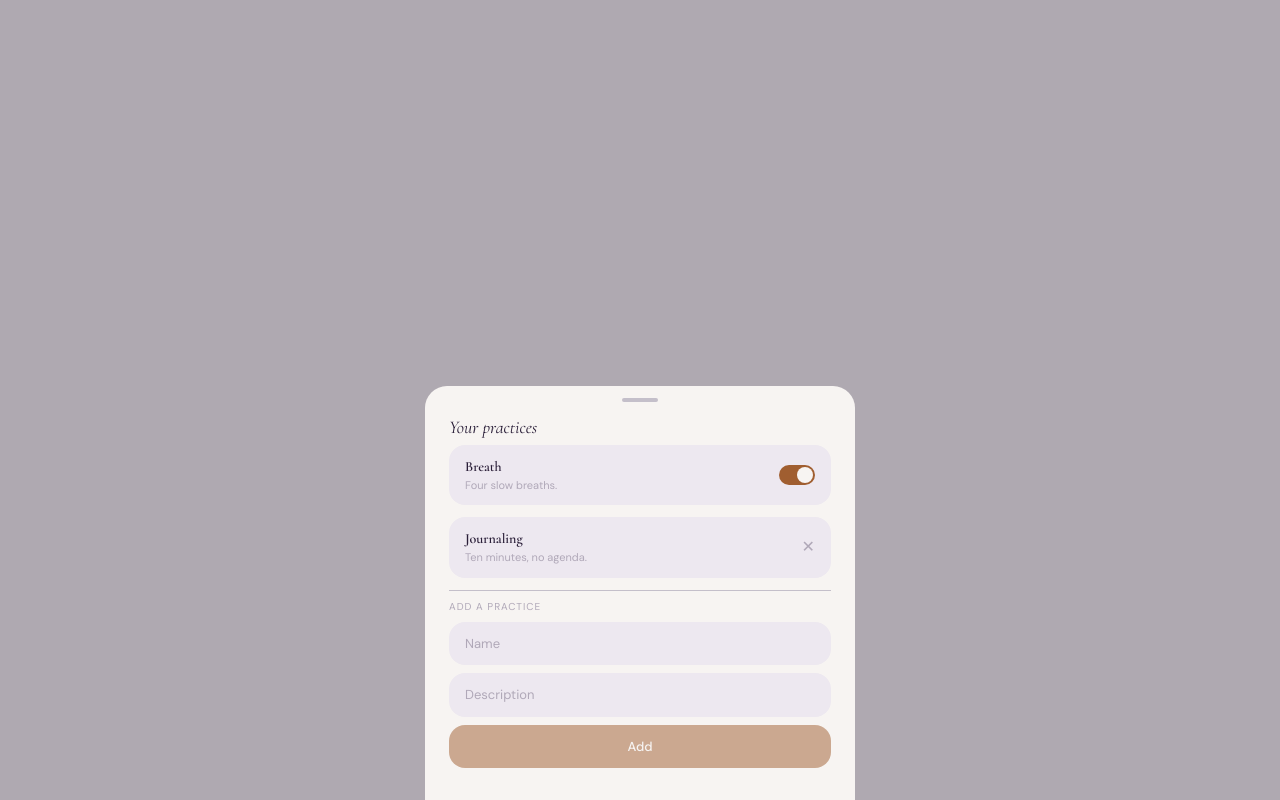
Scenario: PracticeEditor › tapping ✕ shows Remove? confirmation
Click the button named "Remove practice" at (808, 547), box [802,539,815,555]
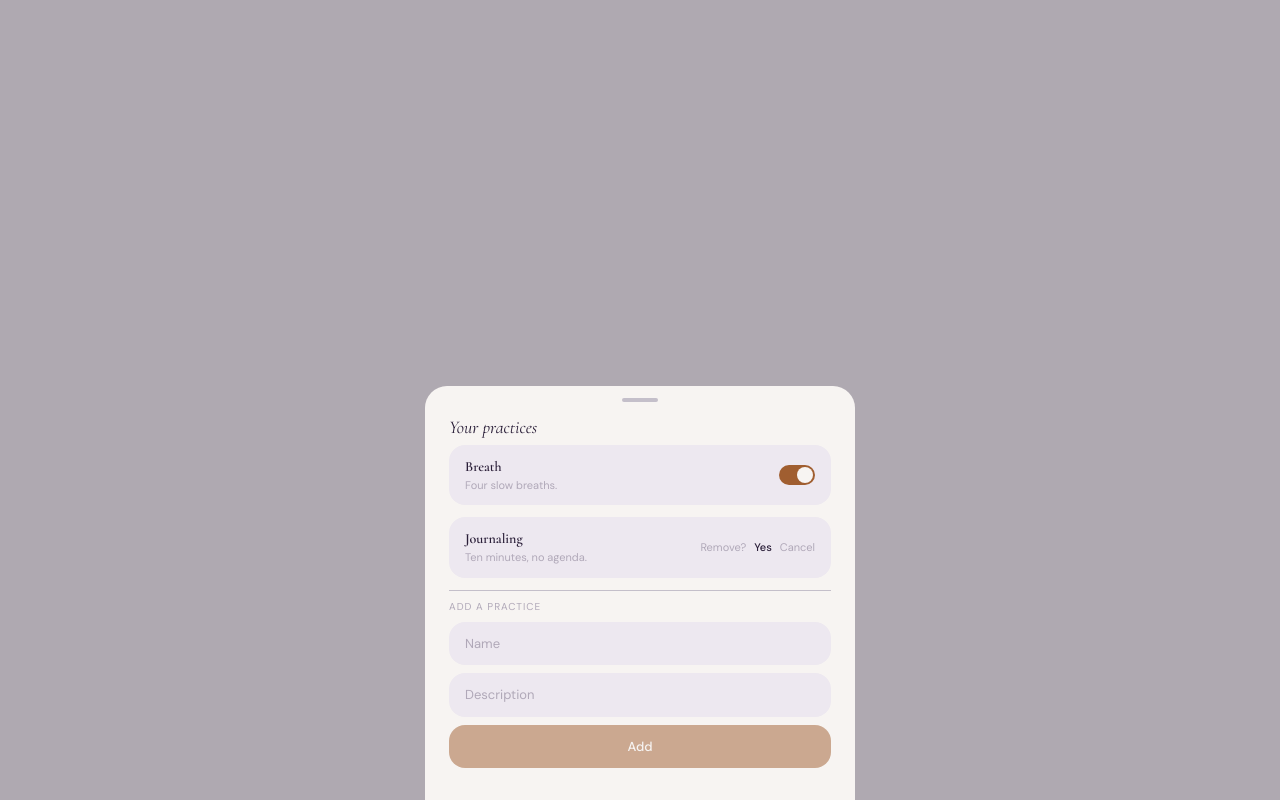
Result: the text "Remove?" is shown at [700,539,746,556]
